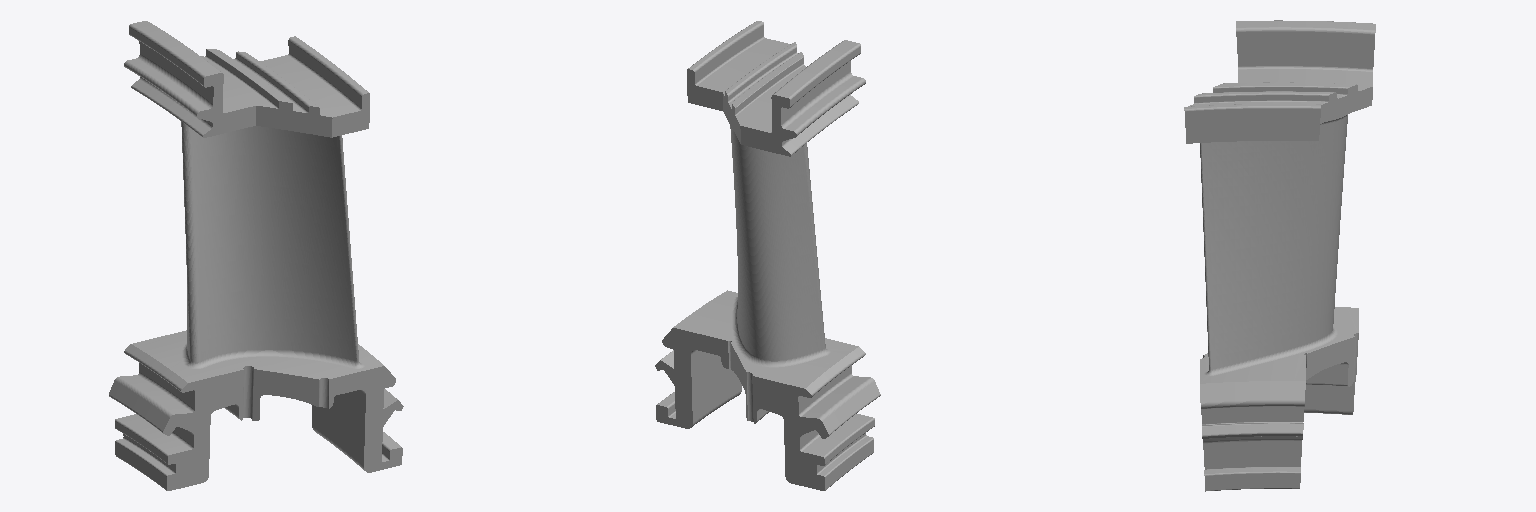
robot.urdf — myobj:
<robot name="myobj">
      <link name="tray_base_link">
        <inertial>
          <origin rpy="0 0 0" xyz="0 0 0"/>
          <mass value="0"/>
          <inertia ixx="0" ixy="0" ixz="0" iyy="0" iyz="0" izz="0"/>
        </inertial>
        <visual>
          <origin rpy="0 0 0" xyz="0 0 0"/>
          <geometry>
            <mesh filename="../mould/blade3.obj" scale="0.001 0.001 0.001"/>
      </geometry>
          <material name="tray_material">
            <color rgba="0.7 0.7 0.7 1"/>
          </material>
        </visual>
      </link>
    </robot>

--- What the picture shows (computed from the rendered views, not written in the file) ---
Views: 3 orthographic renders of the robot side by side, from view 1: azimuth 30°, elevation 25°; view 2: azimuth 150°, elevation 25°; view 3: azimuth 270°, elevation 25°.
Model myobj with 1 links and 0 joints (none), rooted at tray_base_link, posed every joint at zero.
Links seen in each view (by area): view 1: tray_base_link; view 2: tray_base_link; view 3: tray_base_link.
Link boxes in pixels (<box>): tray_base_link: <box>109,21,403,490</box>; tray_base_link: <box>655,21,880,490</box>; tray_base_link: <box>1184,20,1375,491</box>.
Bounding box of the posed robot: 0.2239 × 0.1884 × 0.4243 m (x, y, z).
1 mesh visuals loaded from 1 distinct referenced files (1 OBJ).